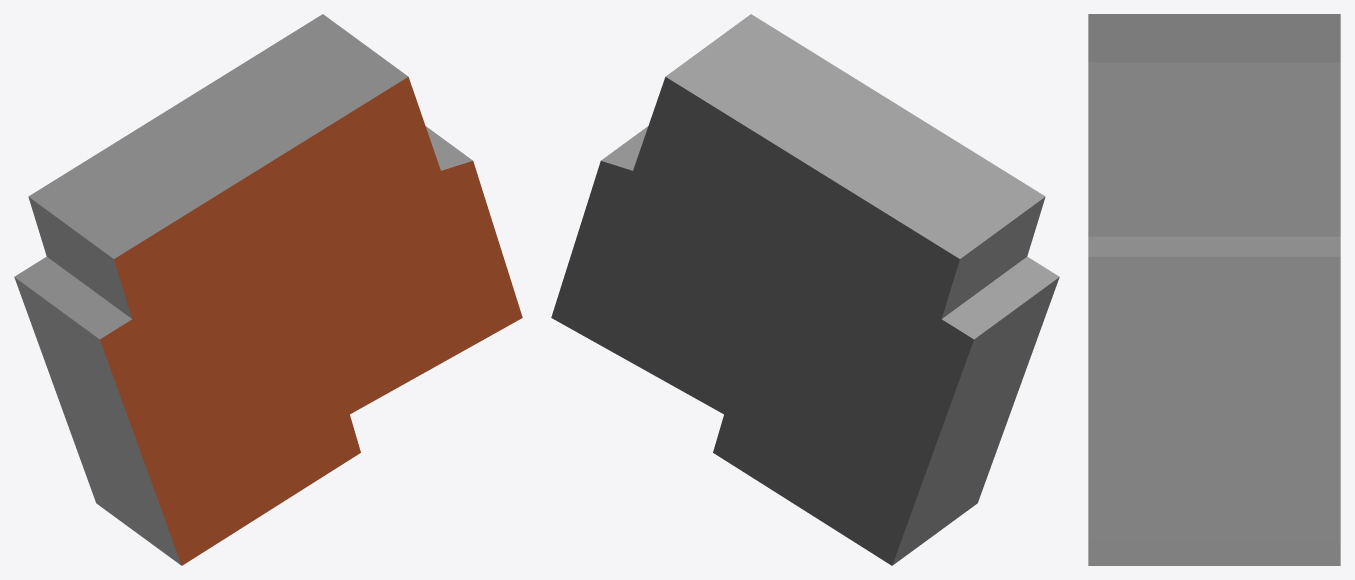
Rendered from construction_4482_assumed_A_Casa_h6m.obj.
3 views of the same model, side by side, from view 1: azimuth 30°, elevation 25°; view 2: azimuth 150°, elevation 25°; view 3: azimuth 270°, elevation 25° (orthographic). The views are drawn at different scales.
Parts seen in each view (by area): view 1: construction_4482_assumed_A_Casa; view 2: construction_4482_assumed_A_Casa; view 3: construction_4482_assumed_A_Casa.
Part boxes in pixels (box(x1,y1,x2,y2)): construction_4482_assumed_A_Casa: box(14, 14, 522, 565); construction_4482_assumed_A_Casa: box(551, 14, 1059, 565); construction_4482_assumed_A_Casa: box(1088, 14, 1340, 565).
Size of the model in its own units: 17.11 by 16.78 by 6.
